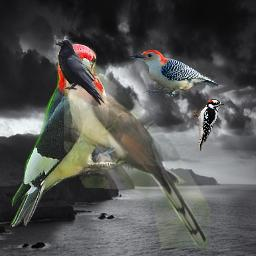Crow: (54, 39, 105, 106)
Cuckoo: (64, 59, 211, 248)
Woodpecker: (6, 42, 127, 227), (130, 50, 218, 98), (190, 99, 224, 151)
